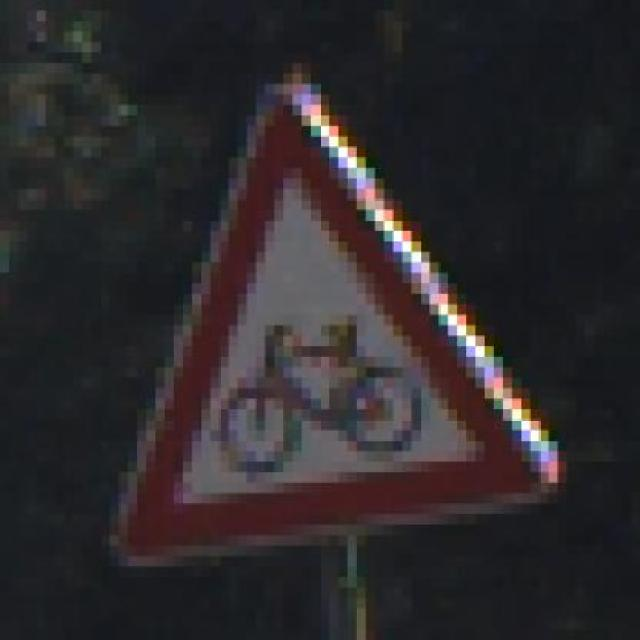CYCLE ROUTE AHEAD WARNING: (91, 62, 567, 567)
